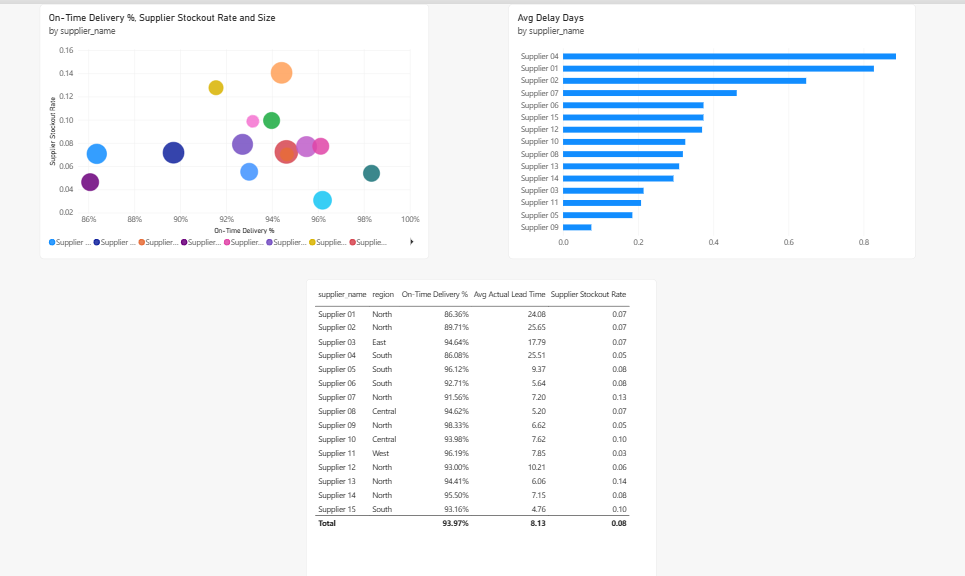

What the dashboard file says about the page in this screenshot:
{"tool":"powerbi","page":{"name":"Supplier Performance'","canvas":[1920,1080],"ordinal":3},"visuals":[{"type":"tableEx","fields":{"Values":["suppliers.supplier_name","suppliers.region","purchase_orders.On-Time Delivery %","purchase_orders.Avg Actual Lead Time","inventory.Supplier Stockout Rate"]},"box":[50,38,478,502],"z":0},{"type":"scatterChart","fields":{"Series":["suppliers.supplier_name"],"Size":["products.Size"],"X":["purchase_orders.On-Time Delivery %"],"Y":["inventory.Supplier Stockout Rate"]},"box":[602,72,478,502],"z":1},{"type":"clusteredBarChart","fields":{"Category":["suppliers.supplier_name"],"Y":["purchase_orders.Avg Delay Days"]},"box":[1170,74,478,502],"z":2}]}

Visuals, with their boxes on the page's 1920x1080 design canvas (x1, y1, x2, y2). These are canvas units, not pixel positions in the 965x576 screenshot, which may show the page scaled, cropped or inside an application window:
tableEx - suppliers.supplier_name x suppliers.region: x1=50, y1=38, x2=528, y2=540
scatterChart - suppliers.supplier_name x products.Size: x1=602, y1=72, x2=1080, y2=574
clusteredBarChart - suppliers.supplier_name x purchase_orders.Avg Delay Days: x1=1170, y1=74, x2=1648, y2=576
